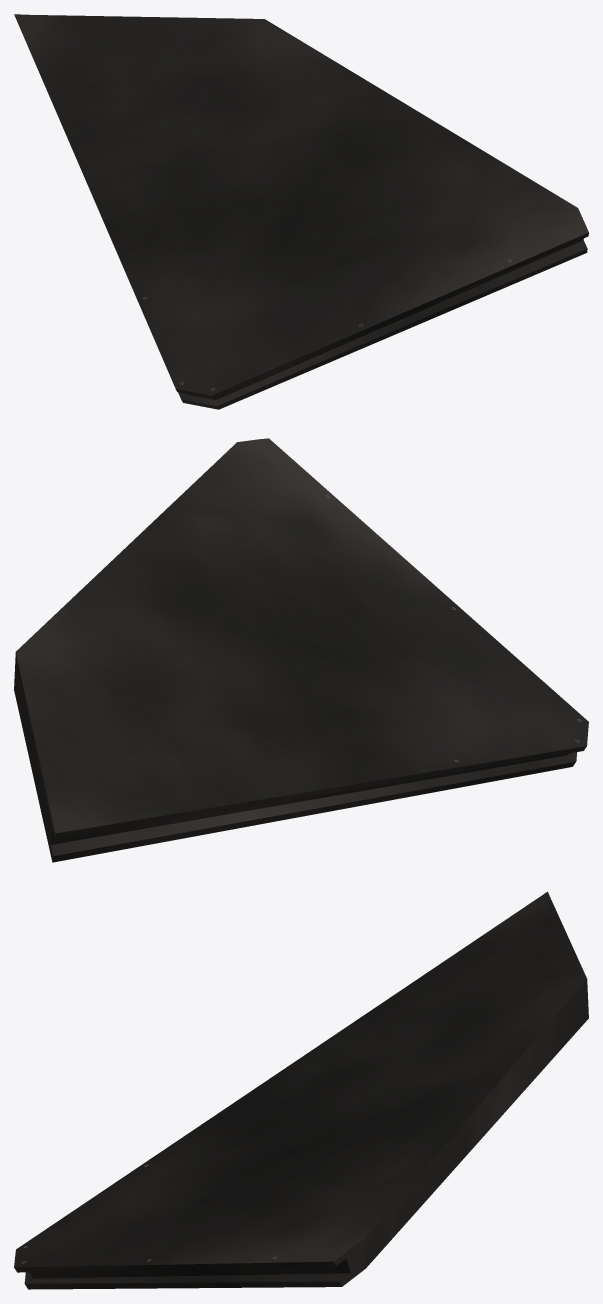
File: e_starboard_underwing_d_model.fbx
The picture shows the model from 3 angles, top to bottom: view 1: azimuth 30°, elevation 25°; view 2: azimuth 150°, elevation 25°; view 3: azimuth 330°, elevation 25°; orthographic projection. The views are drawn at different scales.
Parts seen in each view (by area): view 1: polySurface9; view 2: polySurface9; view 3: polySurface9.
Boxes of the visible parts, x1,y1,x2,y2 form: polySurface9: (14, 14, 588, 409); polySurface9: (14, 438, 588, 862); polySurface9: (14, 891, 588, 1289).
Bounding box in the file's own units: 4322 × 2044 × 8094.
2 materials, 1 textured.
